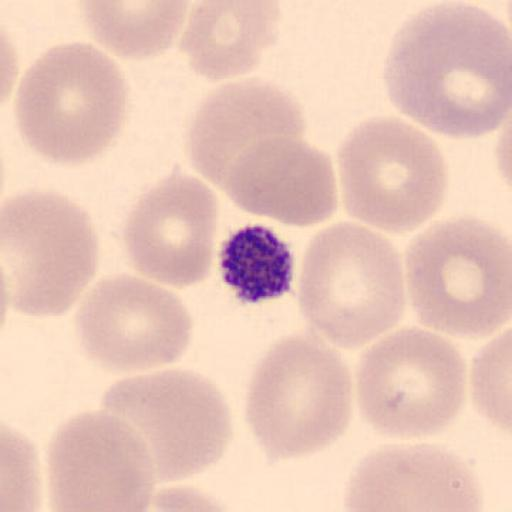Platelet: (218, 222, 297, 306)
RBC: (381, 1, 512, 140), (98, 366, 235, 486), (12, 40, 132, 167), (295, 219, 408, 351), (242, 329, 354, 462), (184, 75, 308, 194), (334, 113, 451, 235), (404, 213, 512, 340), (2, 188, 102, 320), (354, 326, 468, 441), (72, 272, 194, 375), (44, 409, 158, 512), (121, 172, 219, 288), (221, 135, 338, 229), (342, 440, 486, 512), (179, 0, 282, 82), (77, 0, 192, 61), (469, 324, 512, 434), (1, 421, 42, 512), (142, 482, 239, 512), (0, 22, 20, 111), (493, 109, 512, 192)
